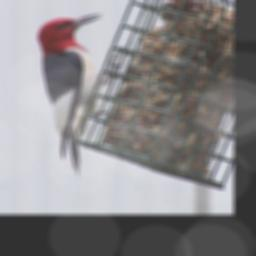Woodpecker: (37, 13, 121, 177)
